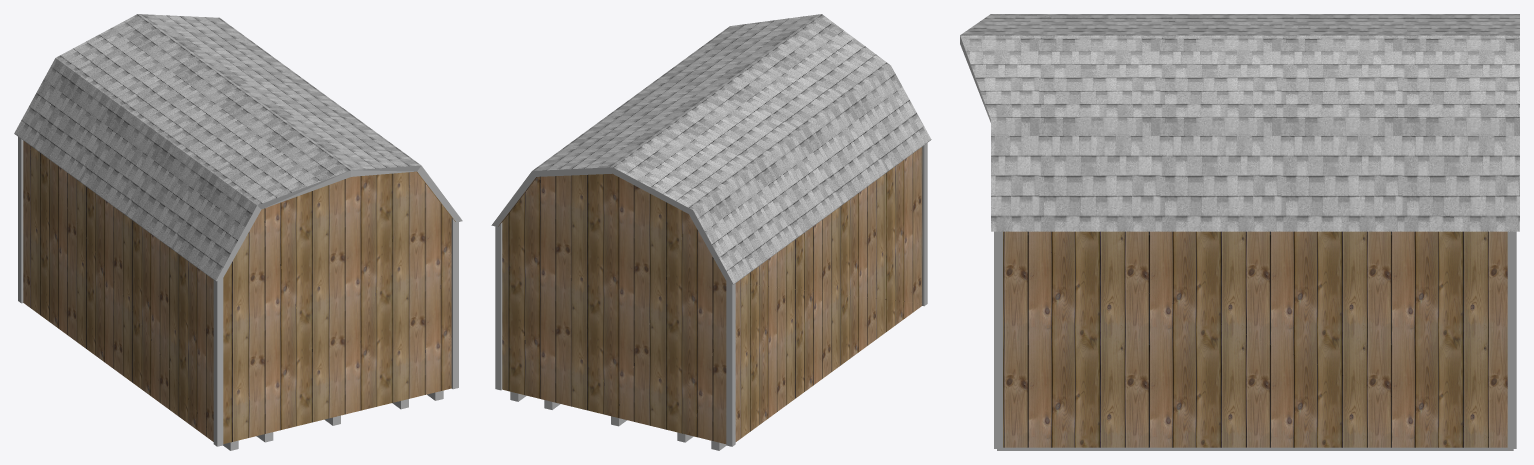
File: High Wall Barns_10x14.obj
The picture shows the model from 3 angles, left to right: view 1: azimuth 30°, elevation 25°; view 2: azimuth 150°, elevation 25°; view 3: azimuth 270°, elevation 25°; orthographic projection. The views are drawn at different scales.
Parts seen in each view (by area): view 1: Shed, Roof, Trim, Sides, Floor; view 2: Shed, Roof, Trim, Sides, Floor; view 3: Roof, Shed, Trim, Floor.
Part boxes in pixels (left/top/right/bottom): Shed: left=23, top=141, right=455, bottom=443; Roof: left=14, top=14, right=420, bottom=280; Trim: left=18, top=137, right=458, bottom=446; Sides: left=216, top=165, right=462, bottom=281; Floor: left=223, top=390, right=443, bottom=450; Shed: left=498, top=147, right=922, bottom=443; Roof: left=532, top=14, right=931, bottom=284; Trim: left=495, top=143, right=927, bottom=446; Sides: left=491, top=167, right=733, bottom=284; Floor: left=510, top=391, right=726, bottom=450; Roof: left=960, top=14, right=1519, bottom=231; Shed: left=1003, top=231, right=1507, bottom=447; Trim: left=994, top=231, right=1516, bottom=448; Floor: left=997, top=447, right=1513, bottom=450.
Bounding box in the file's own units: 3.09 × 3.17 × 4.62.
